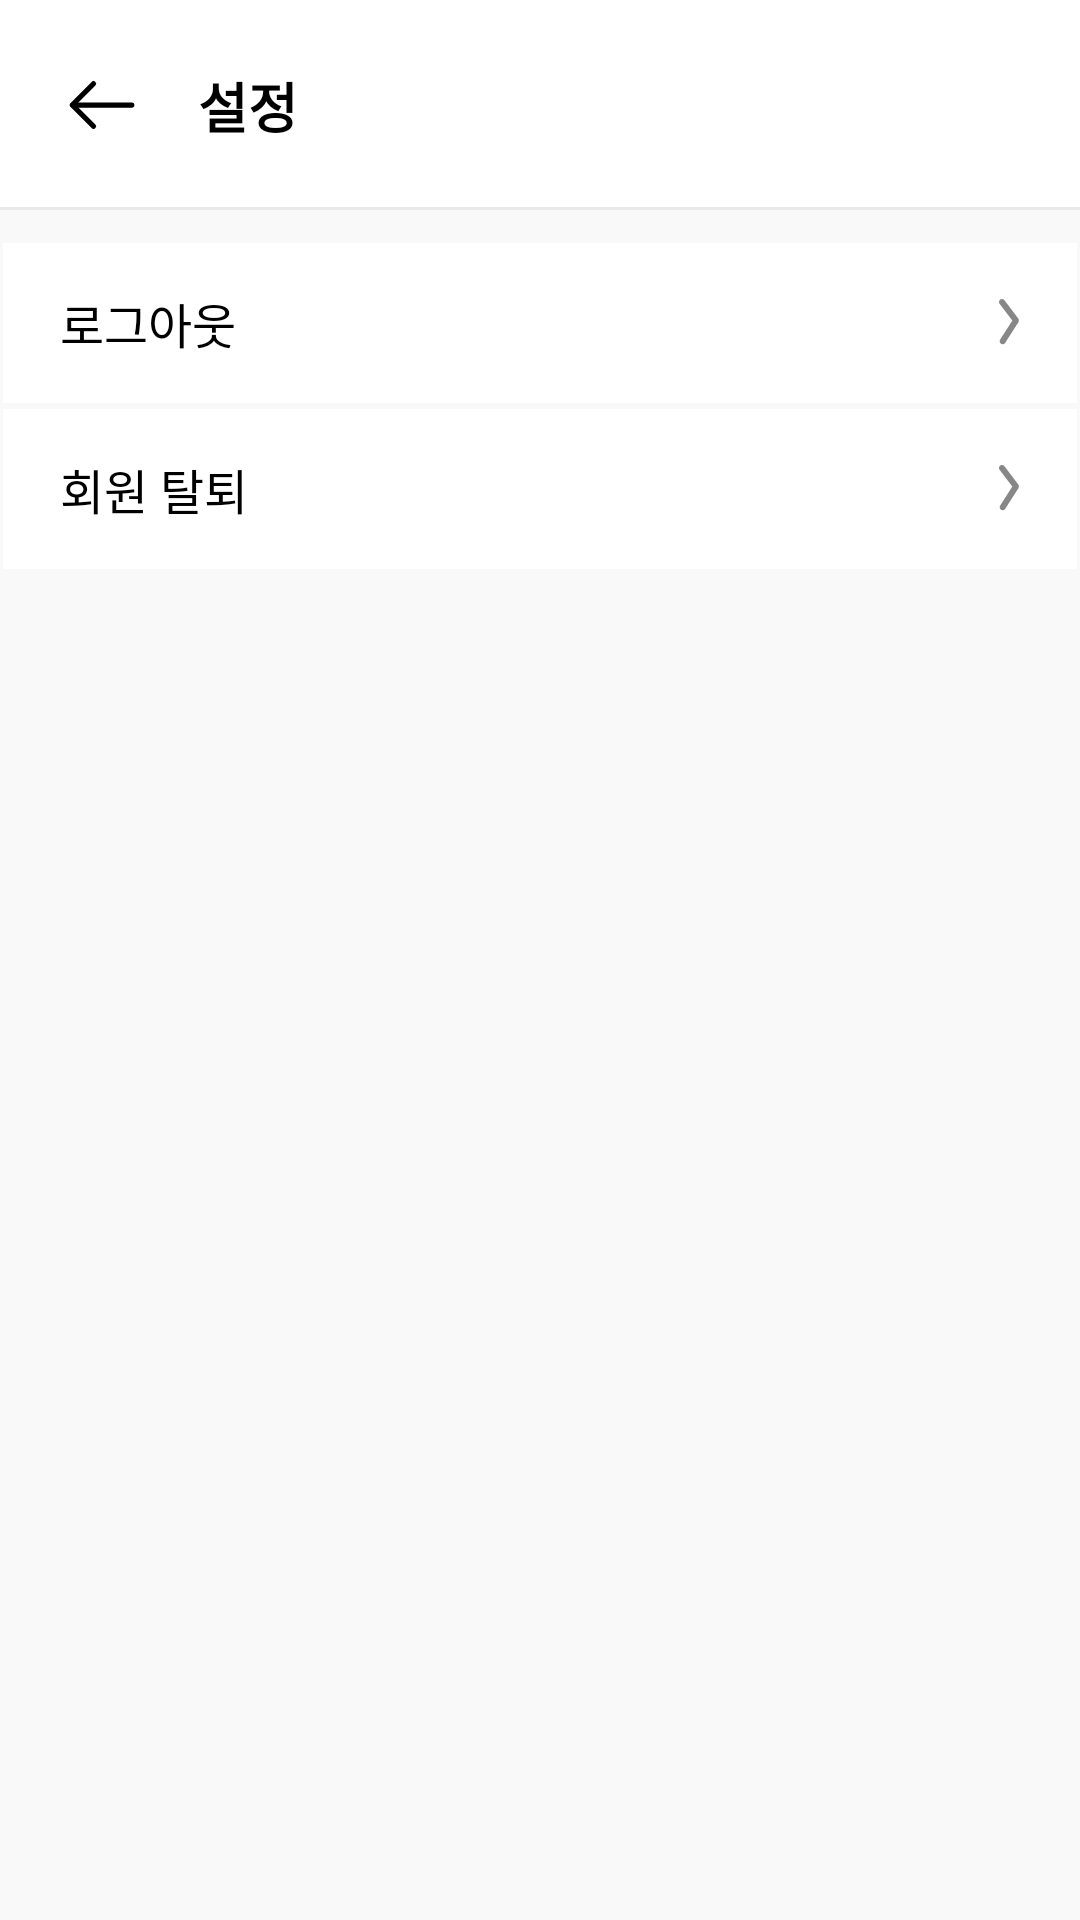

Named icons in this screenshot (1080 x 1920) and their bounding boxes, [x1=x1, y1=y1, x2=x2, y2=y2]:
back: [x1=69, y1=81, x2=135, y2=129]
